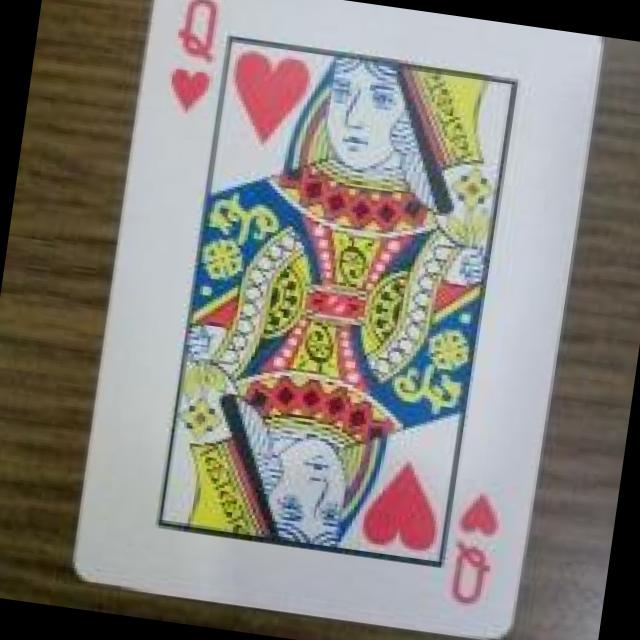Queen of hearts: (76, 0, 600, 637)
